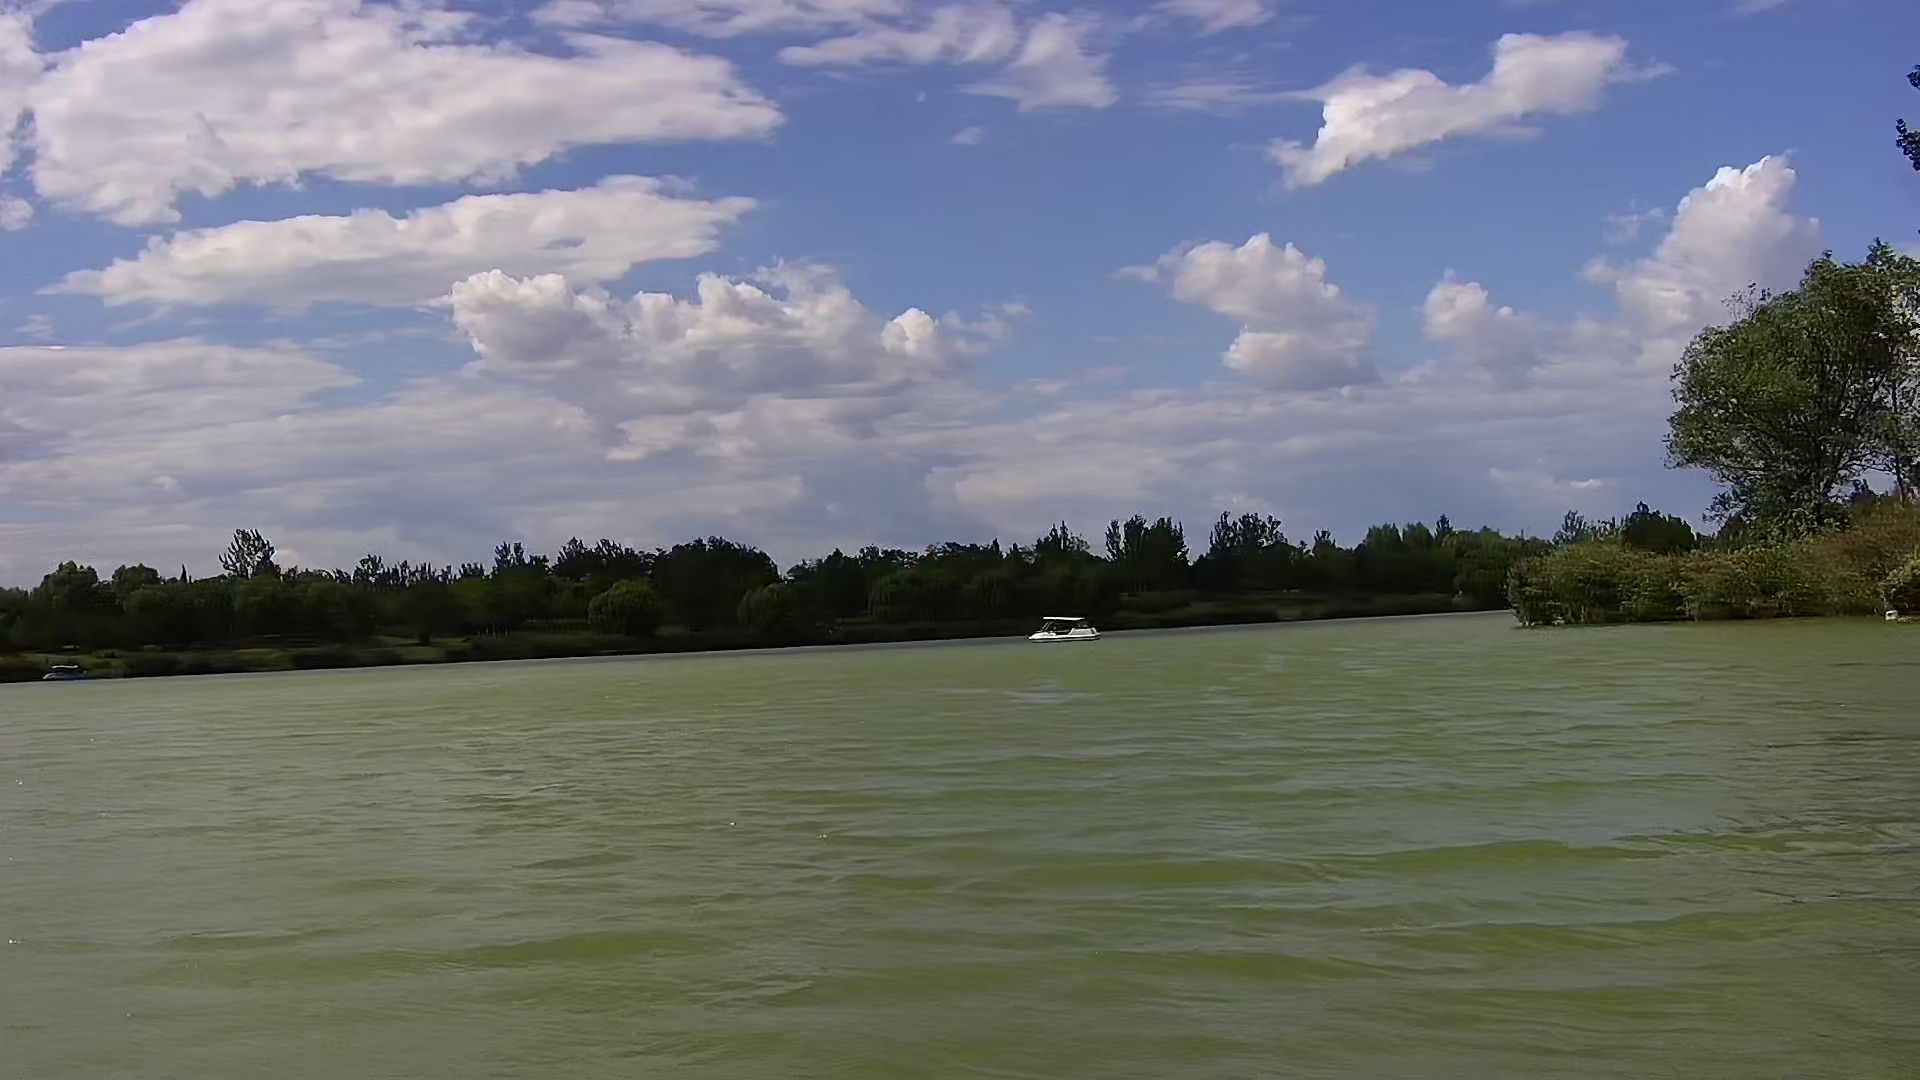boat: (1030, 608, 1105, 650), (40, 661, 94, 682)
